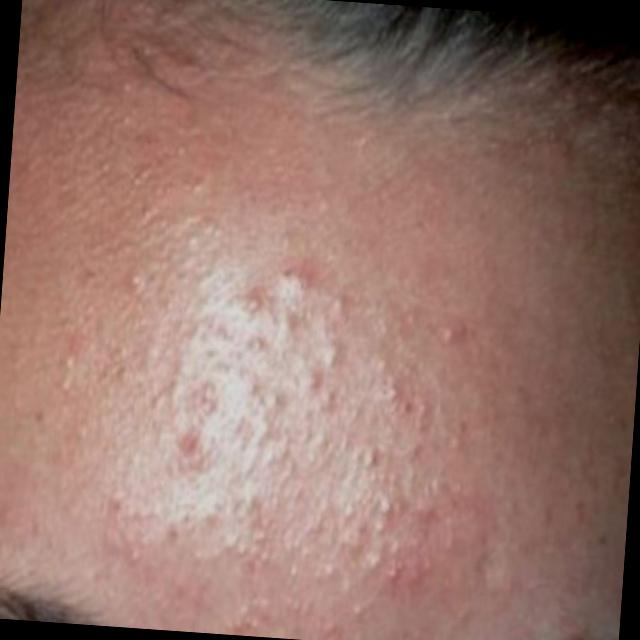fungal: (111, 209, 521, 640)
